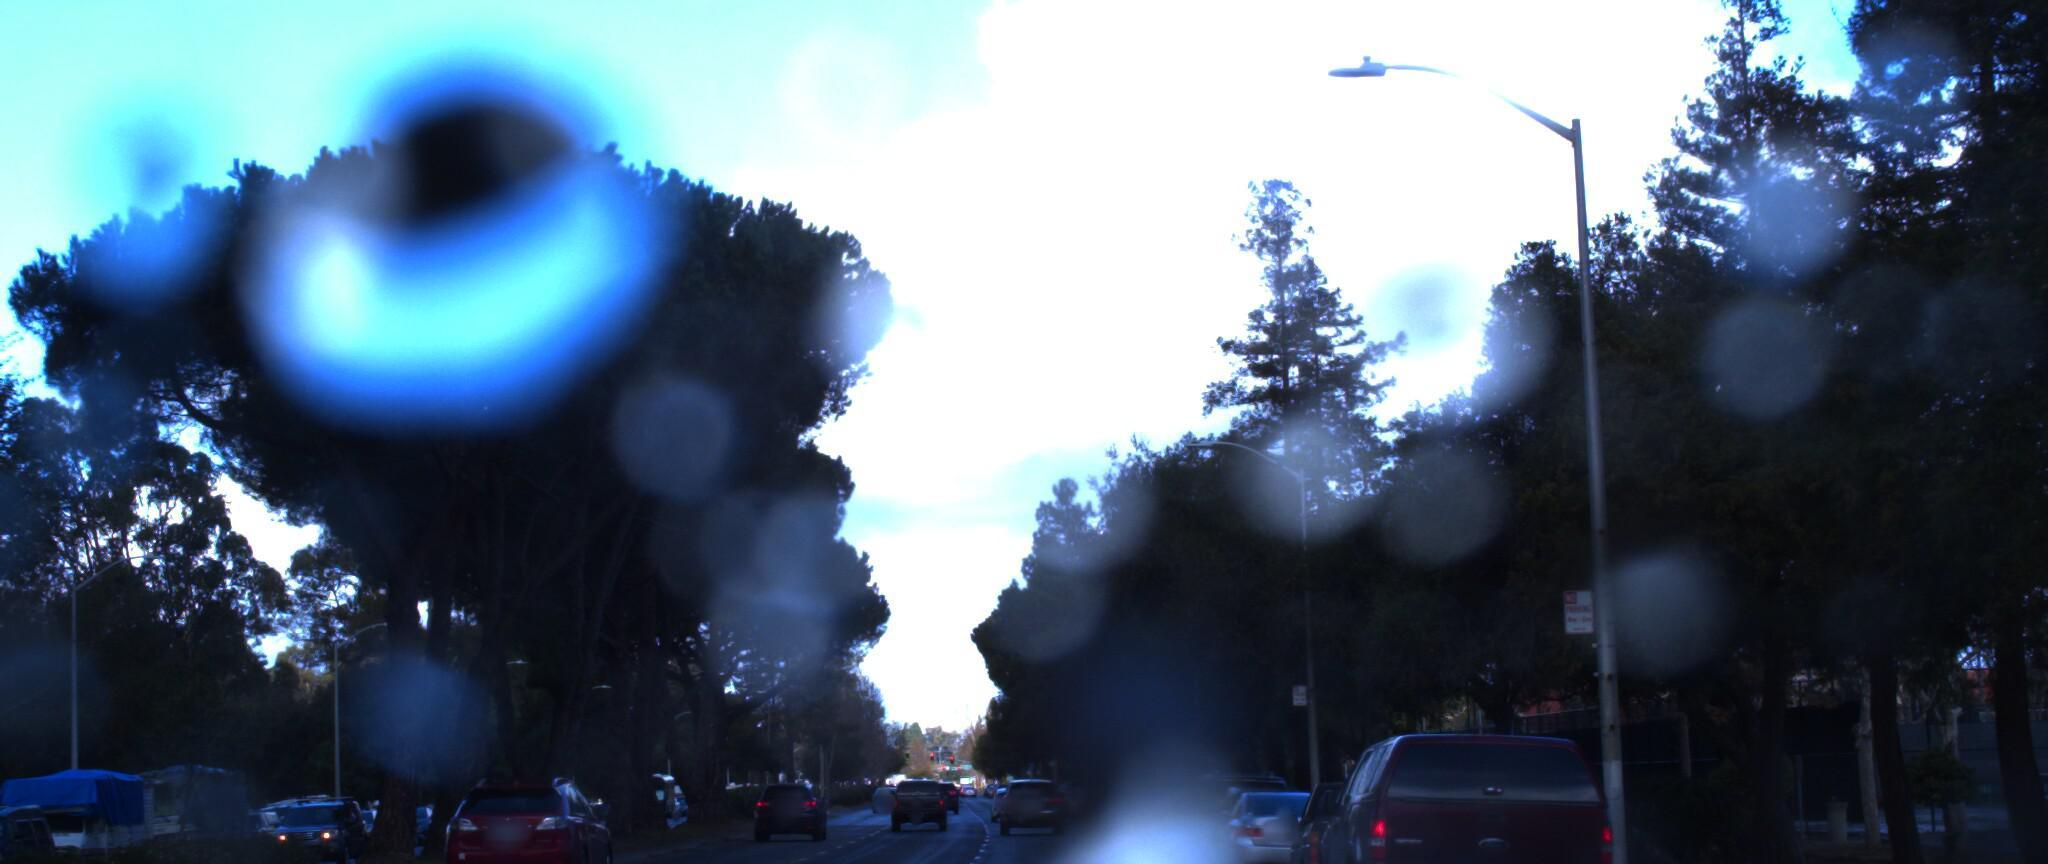car: (1310, 713, 1635, 864), (1273, 764, 1477, 864), (428, 764, 622, 864), (1191, 770, 1317, 864), (1209, 783, 1354, 864), (744, 786, 831, 852), (1118, 777, 1199, 838)
other_vehicle: (0, 764, 172, 864)
